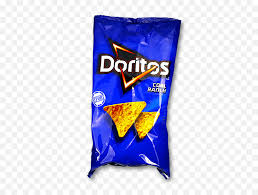Doritos: (83, 2, 194, 188)
